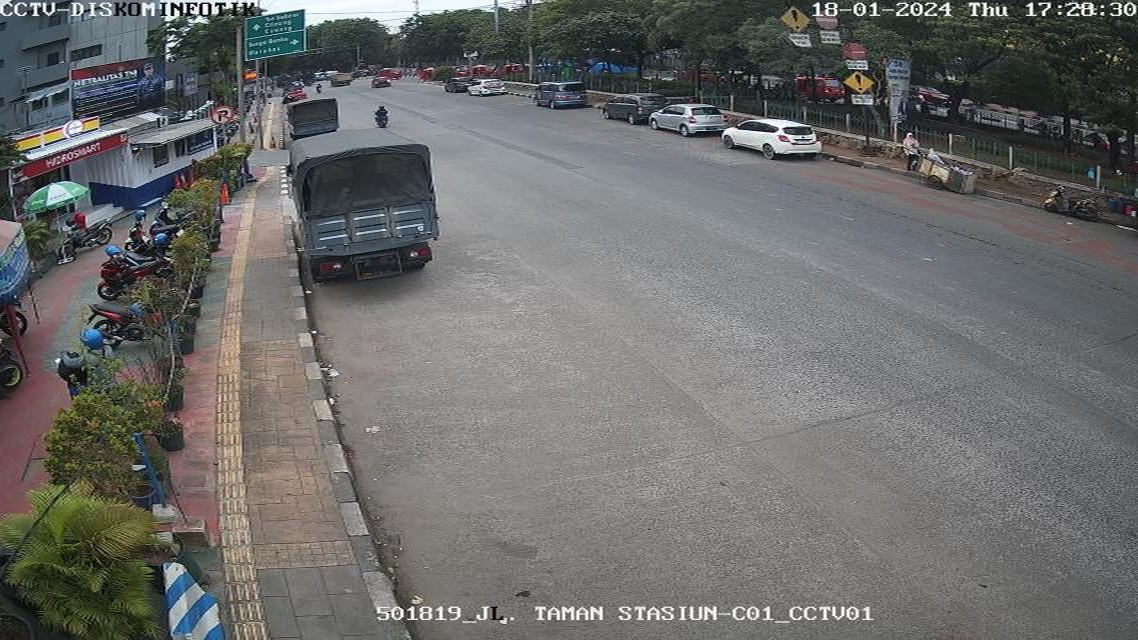Gerobak: (902, 141, 985, 196)
